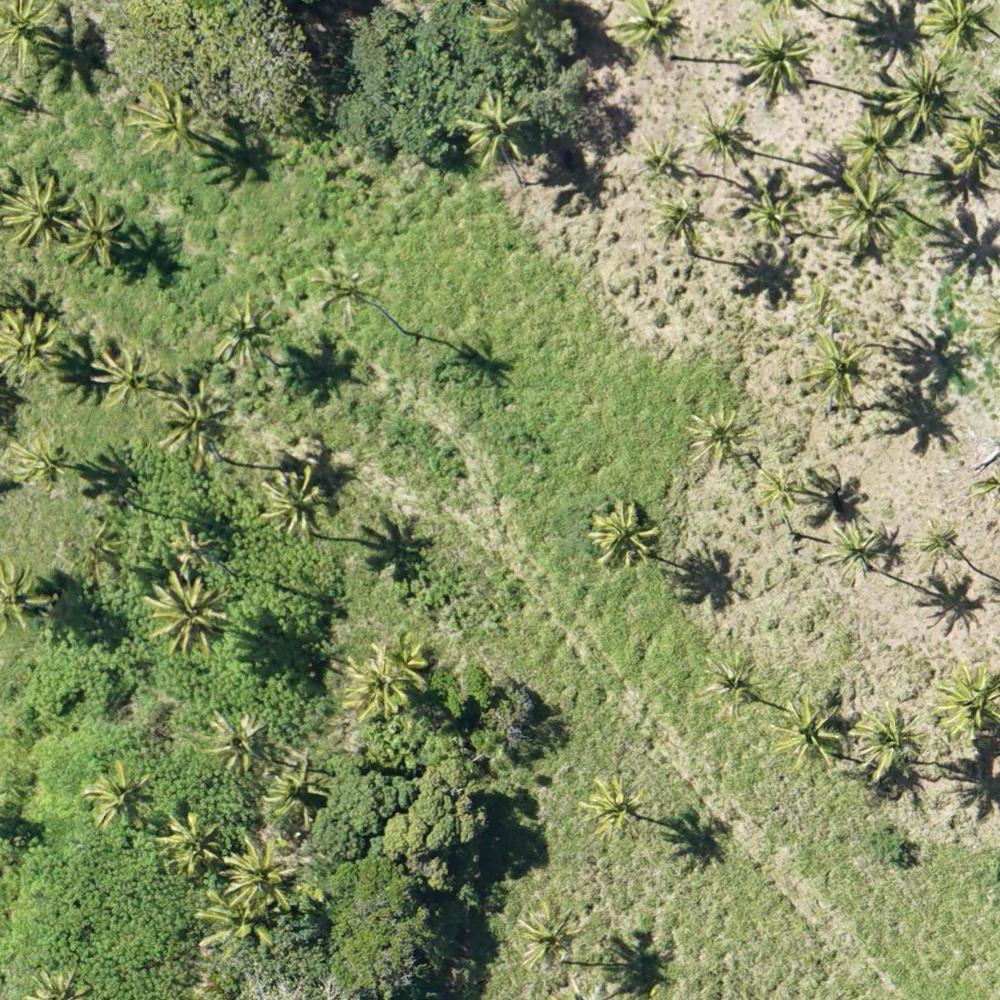Palm: (141, 572, 228, 661), (253, 464, 332, 542), (738, 15, 808, 102), (129, 81, 207, 159), (853, 699, 929, 778), (774, 696, 850, 775), (224, 832, 298, 910), (802, 332, 872, 412), (87, 341, 164, 411), (158, 388, 225, 467), (893, 63, 964, 136), (200, 888, 278, 954), (835, 168, 905, 241), (307, 246, 373, 323), (1, 168, 67, 244), (85, 762, 154, 833), (464, 93, 531, 165), (153, 809, 220, 880), (214, 295, 279, 368), (924, 1, 998, 64), (67, 193, 130, 266), (515, 902, 585, 967), (199, 709, 265, 777), (838, 109, 902, 179), (343, 649, 406, 719), (688, 402, 755, 465), (264, 755, 326, 823), (937, 667, 999, 735), (3, 314, 62, 385), (589, 504, 655, 567), (6, 432, 72, 494), (622, 1, 687, 63), (942, 115, 1000, 184), (1, 3, 58, 71), (628, 125, 692, 185), (823, 513, 882, 576), (583, 776, 641, 839), (705, 651, 759, 712), (656, 188, 708, 249), (748, 183, 803, 240), (755, 461, 806, 514), (914, 519, 963, 566)
